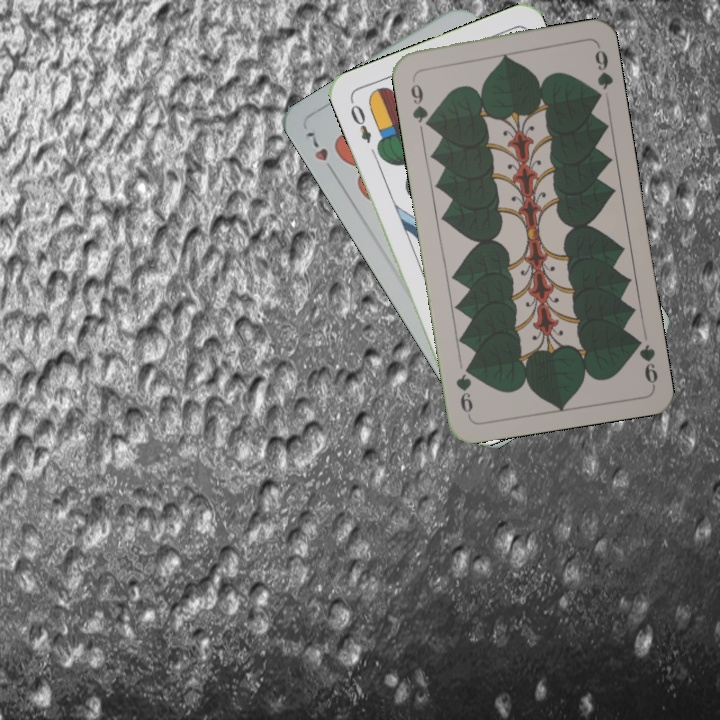EO: (346, 96, 374, 146)
G9: (629, 331, 661, 388), (406, 73, 434, 130)
H7: (301, 125, 339, 179)
